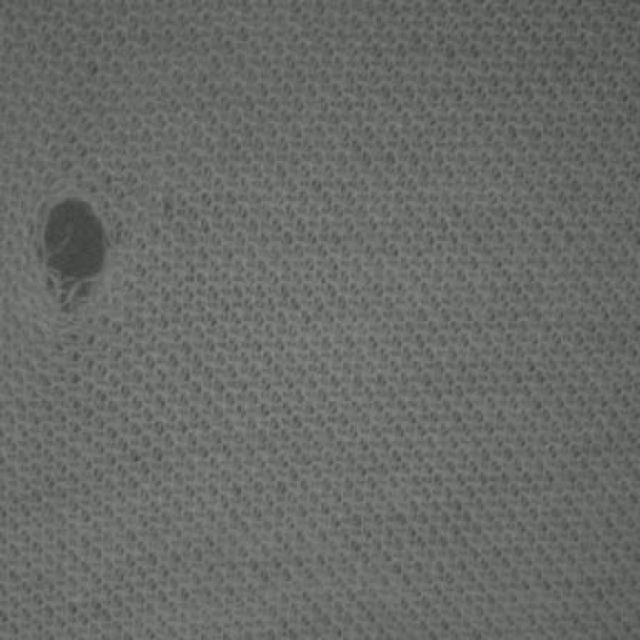Hole: (43, 198, 108, 310)
